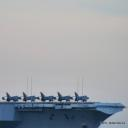Portanaves: (5, 75, 127, 127)
